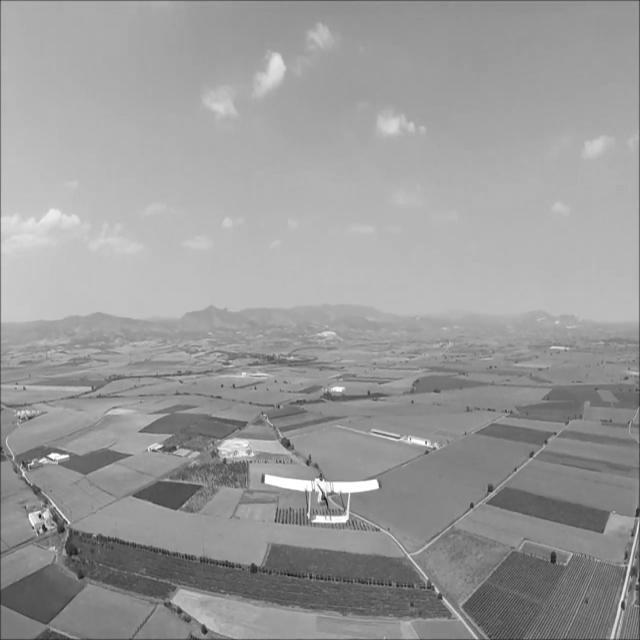iha: (294, 465, 353, 527)
